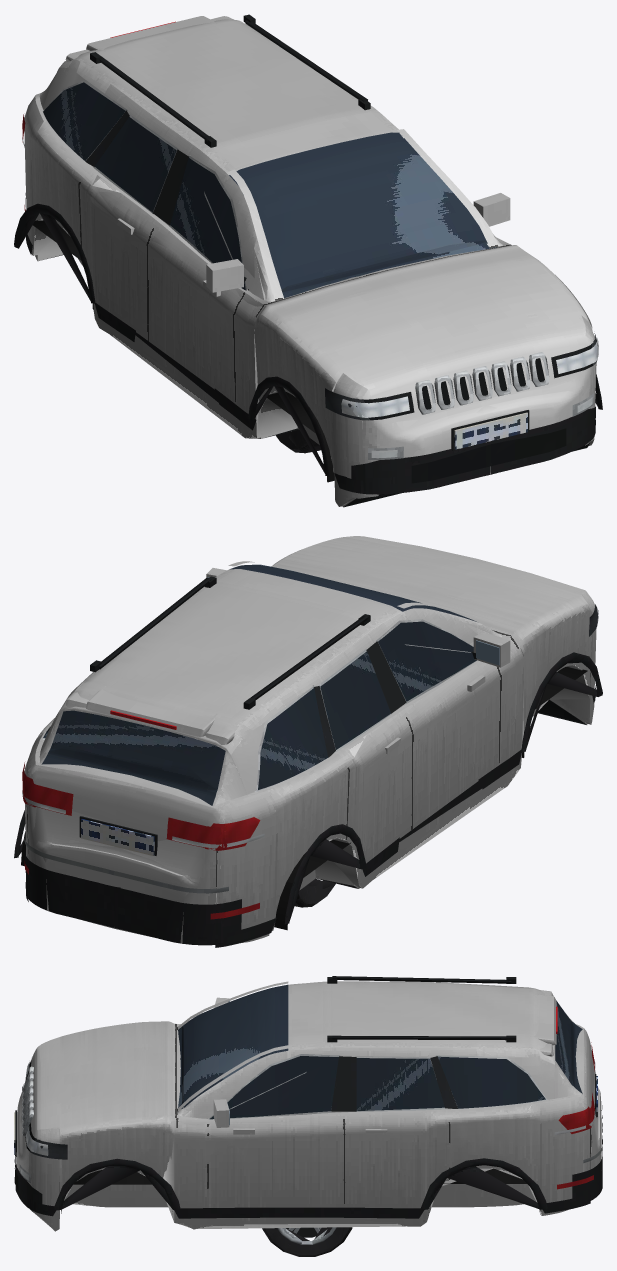
File: grand16.glb
3 views of the same model, one above another, from view 1: azimuth 30°, elevation 25°; view 2: azimuth 150°, elevation 25°; view 3: azimuth 270°, elevation 25° (orthographic). The views are drawn at different scales.
Visible parts, largest first — view 1: Paint, Body, Paint_far, Body_far; view 2: Paint, Body, Paint_far, Body_far, Wheel; view 3: Paint, Body, Paint_far, Body_far, Wheel, Wheel_far.
Boxes of the visible parts, x1=… form: Paint: x1=24, y1=16, x2=596, y2=507; Body: x1=14, y1=21, x2=602, y2=507; Paint_far: x1=30, y1=70, x2=571, y2=498; Body_far: x1=19, y1=14, x2=597, y2=505; Paint: x1=24, y1=536, x2=596, y2=943; Body: x1=14, y1=564, x2=602, y2=947; Paint_far: x1=33, y1=560, x2=590, y2=942; Body_far: x1=19, y1=576, x2=597, y2=943; Wheel: x1=294, y1=880, x2=335, y2=907; Paint: x1=16, y1=981, x2=601, y2=1231; Body: x1=14, y1=978, x2=602, y2=1218; Paint_far: x1=17, y1=981, x2=601, y2=1228; Body_far: x1=14, y1=976, x2=597, y2=1209; Wheel: x1=262, y1=1227, x2=352, y2=1256; Wheel_far: x1=280, y1=1227, x2=344, y2=1255.
Bounding box in the file's own units: 2.13 × 2.15 × 4.68.
3 materials, 3 textured.
